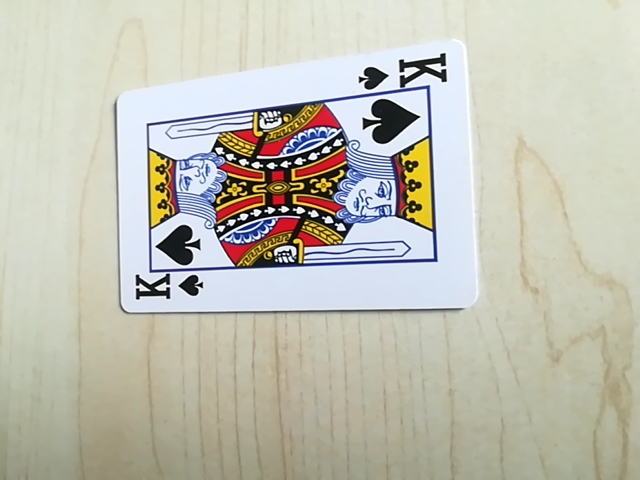ht k: (354, 51, 453, 95), (128, 266, 206, 310)
